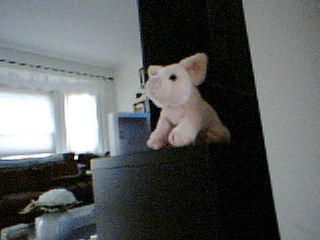piggy: (141, 51, 231, 151)
